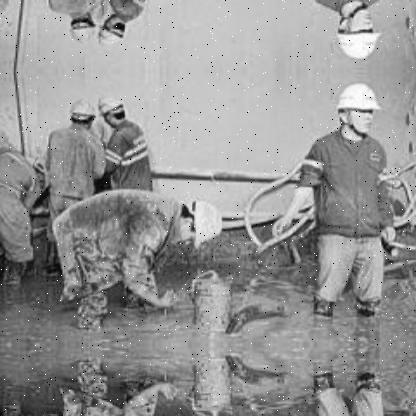Helmet: (332, 0, 381, 64), (174, 194, 226, 249), (336, 81, 381, 136), (63, 90, 102, 134), (98, 94, 134, 134), (64, 12, 100, 46), (100, 11, 132, 49)
